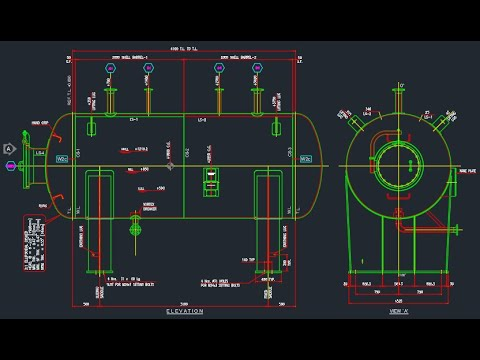nozzle: (13, 137, 51, 194), (247, 77, 268, 103), (387, 84, 410, 106), (100, 87, 122, 99)
